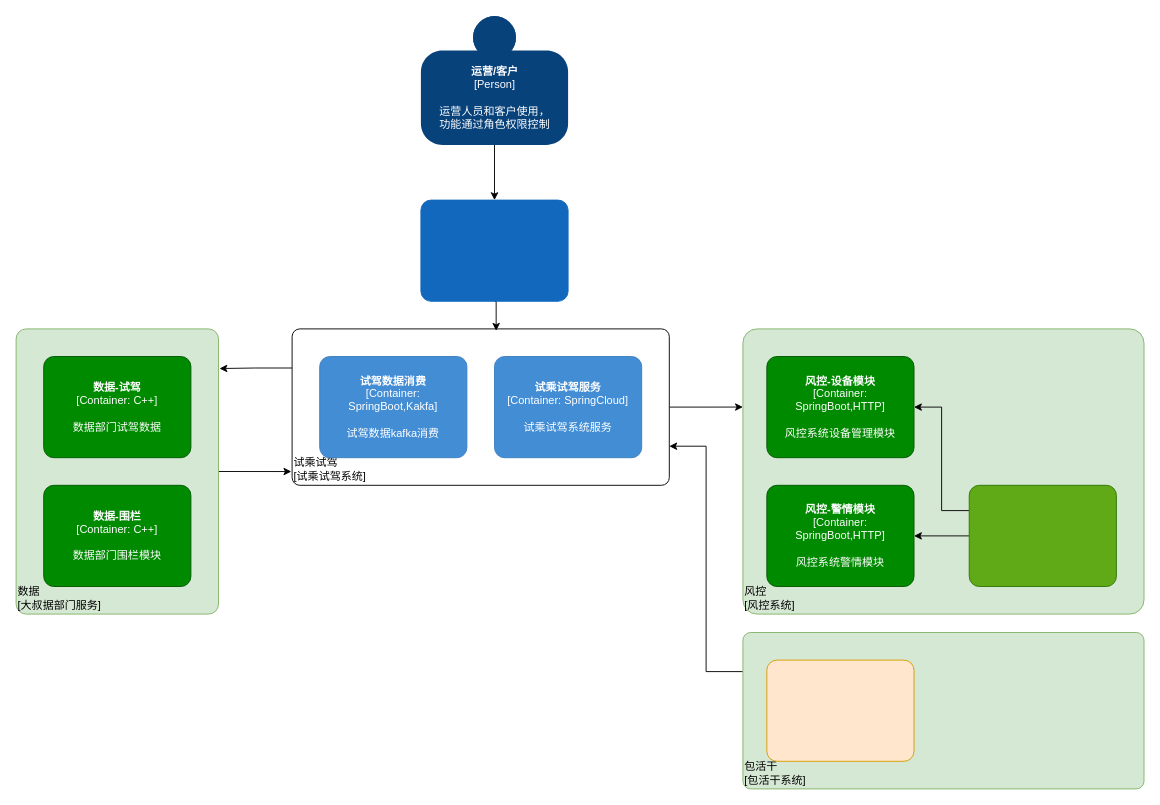
The diagram is 1160 pixels wide and 805 high, and some of its shapes have lost their labels. Here are the shapes that lost their labels. From the top down, the centre of each, then its label:
[494,250]: 系统界面UI [Software System] 后台前端管理系统界面
[1042,535]: 风控-kafka消费 [Container: SpringBoot,Kafka] 风控警情和设备状态消费
[840,710]: 包活干 [Container: SpringCloud] 包活干工单管理系统
